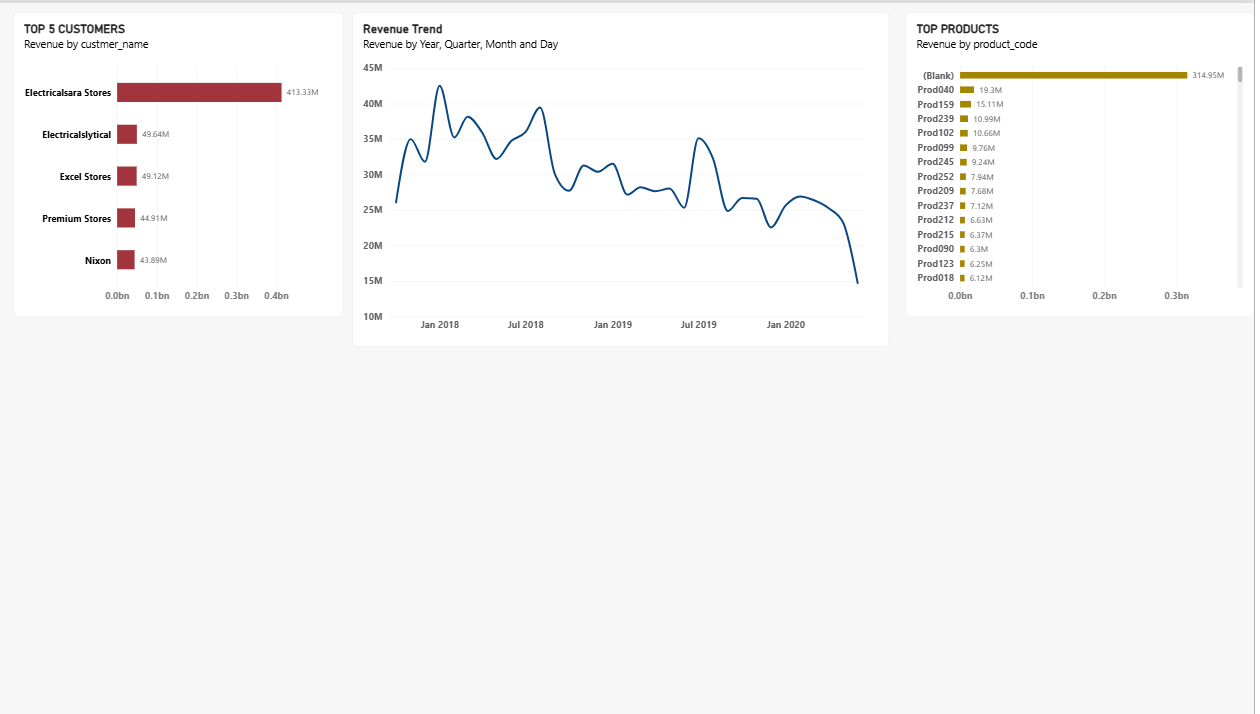

What the dashboard file says about the page in this screenshot:
{"tool":"powerbi","page":{"name":"Page 2","canvas":[1920,1080],"ordinal":1},"visuals":[{"type":"barChart","title":"TOP 5 CUSTOMERS","fields":{"Category":["sales customers.custmer_name"],"Y":["base measures.Revenue"]},"box":[40,14,500,462],"z":0},{"type":"barChart","title":"TOP PRODUCTS","fields":{"Category":["sales products.product_code"],"Y":["base measures.Revenue"]},"box":[1392.3,13.6,528,462],"z":1},{"type":"lineChart","title":"Revenue Trend","fields":{"Category":["sales date.cy_date.Variation.Date Hierarchy.Year","sales date.cy_date.Variation.Date Hierarchy.Quarter","sales date.cy_date.Variation.Date Hierarchy.Month","sales date.cy_date.Variation.Date Hierarchy.Day"],"Y":["base measures.Revenue"]},"box":[554.2,13.6,813,506.5],"z":2}]}

Visuals, with their boxes in screenshot pixels (x1, y1, x2, y2), scaled from the page's 1920x1080 canvas onto the 1260x714 screenshot:
"TOP 5 CUSTOMERS" barChart: x1=26 y1=9 x2=354 y2=315
"TOP PRODUCTS" barChart: x1=914 y1=9 x2=1259 y2=314
"Revenue Trend" lineChart: x1=364 y1=9 x2=897 y2=344
